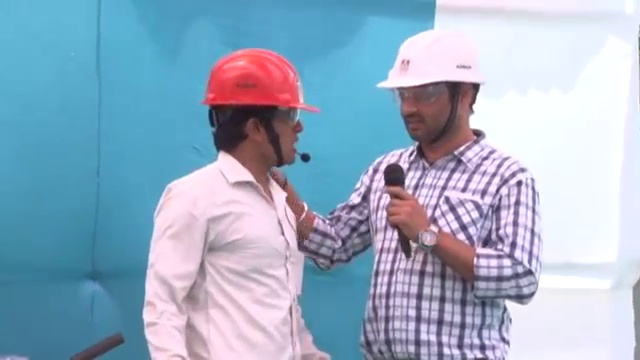helmet: (199, 46, 322, 115), (375, 27, 487, 91)
helmet_on: (197, 45, 322, 176), (372, 27, 487, 155)
person: (283, 27, 544, 360), (137, 45, 331, 360)
